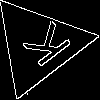K: (14, 20, 74, 75)
